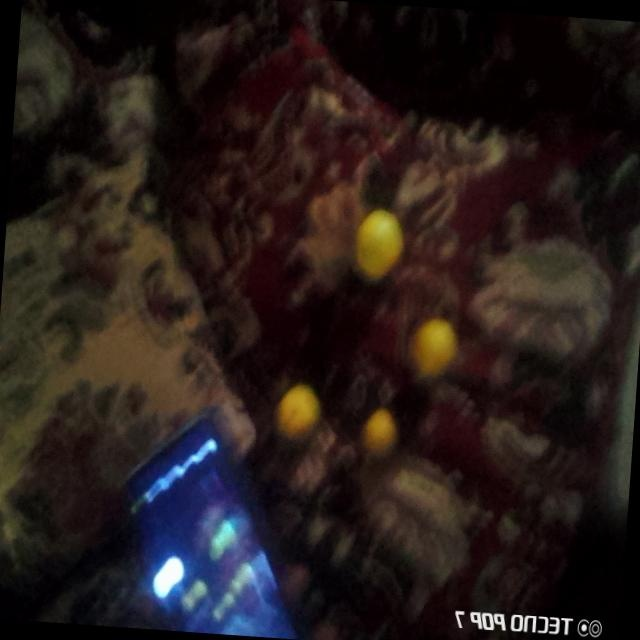agrume: (346, 205, 416, 284), (405, 317, 458, 387), (350, 409, 406, 467), (270, 384, 322, 446)
